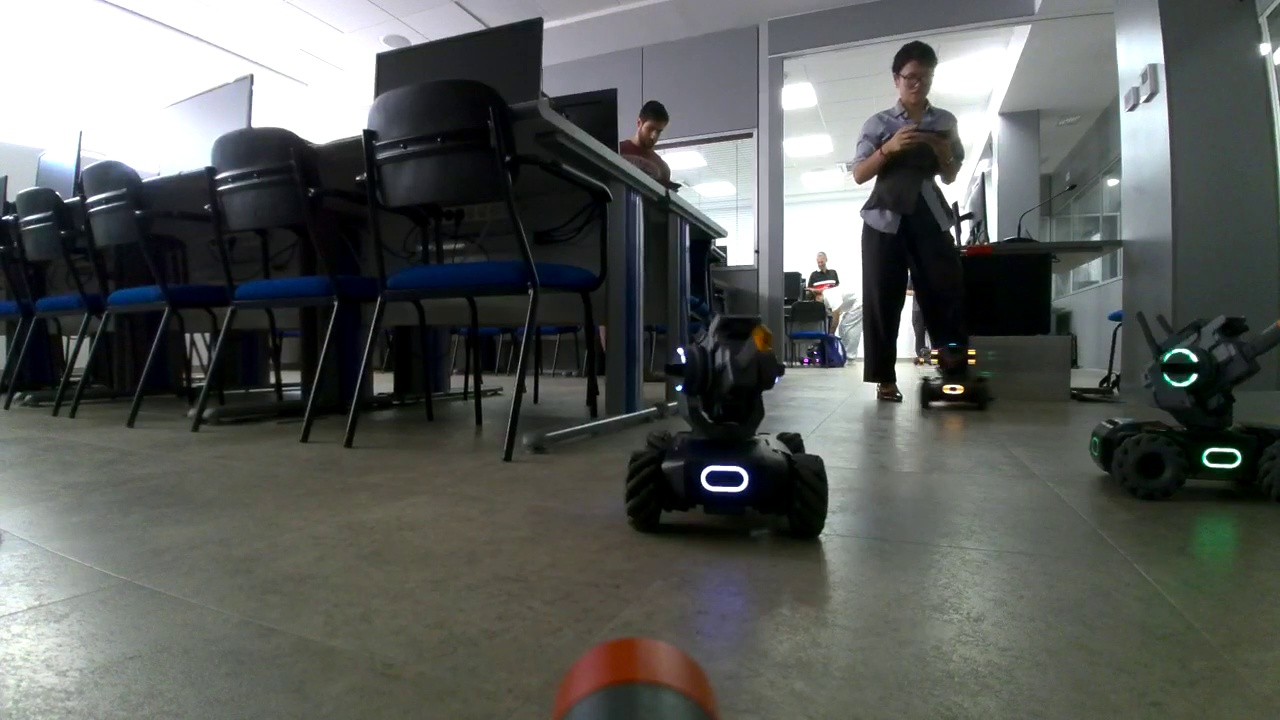robot: (625, 314, 828, 531), (1089, 299, 1280, 497), (916, 329, 992, 410), (800, 341, 825, 367)
